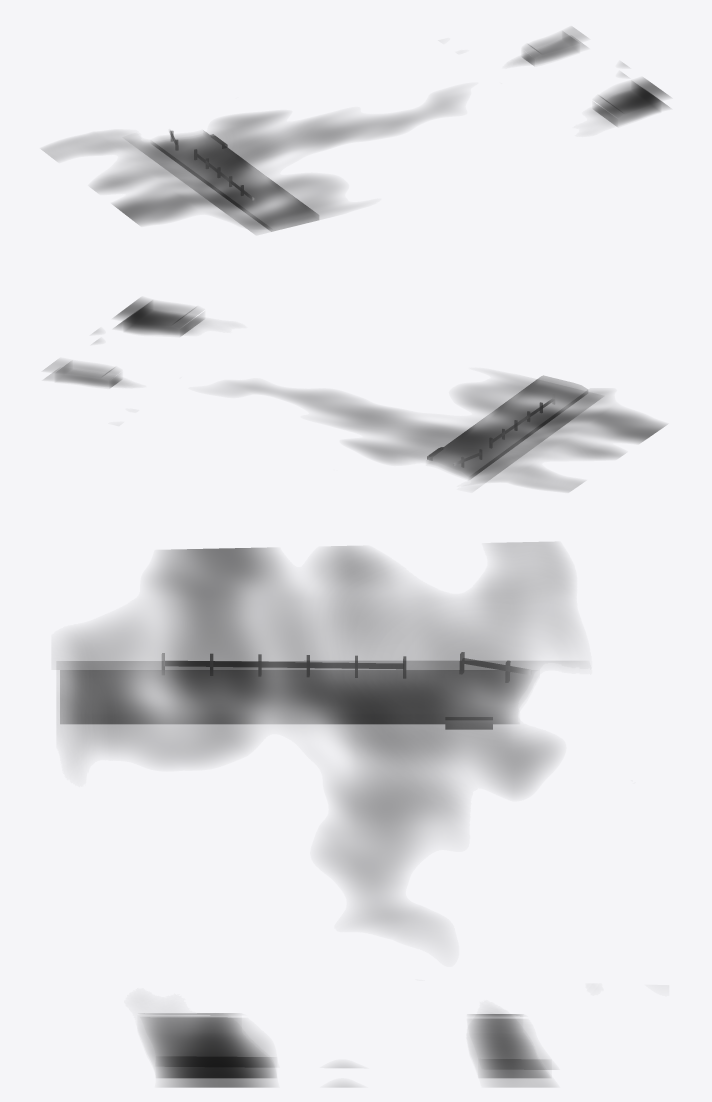
The model's file is shadow_text_decal-transformed.glb.
The picture shows the model from 3 angles, top to bottom: view 1: azimuth 30°, elevation 25°; view 2: azimuth 150°, elevation 25°; view 3: azimuth 270°, elevation 25°; orthographic projection. The views are drawn at different scales.
Parts seen in each view (by area): view 1: gltf joined final pls.002; view 2: gltf joined final pls.002; view 3: gltf joined final pls.002.
Boxes of the visible parts, box(x1,y1,x2,y2) form: gltf joined final pls.002: box(42, 28, 669, 233); gltf joined final pls.002: box(44, 298, 665, 491); gltf joined final pls.002: box(56, 542, 568, 1087).
Size of the model in its own units: 19.94 by 0.6864 by 10.32.
Materials: 1 (1 with a texture image).
